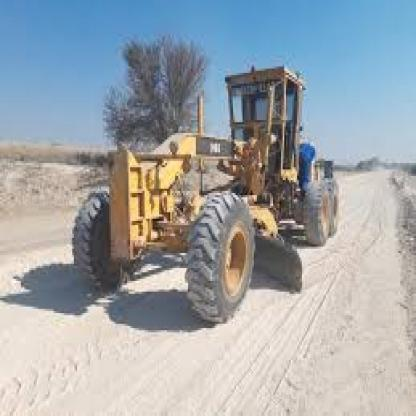bull_dozer/loader/grader: (63, 49, 374, 324)
